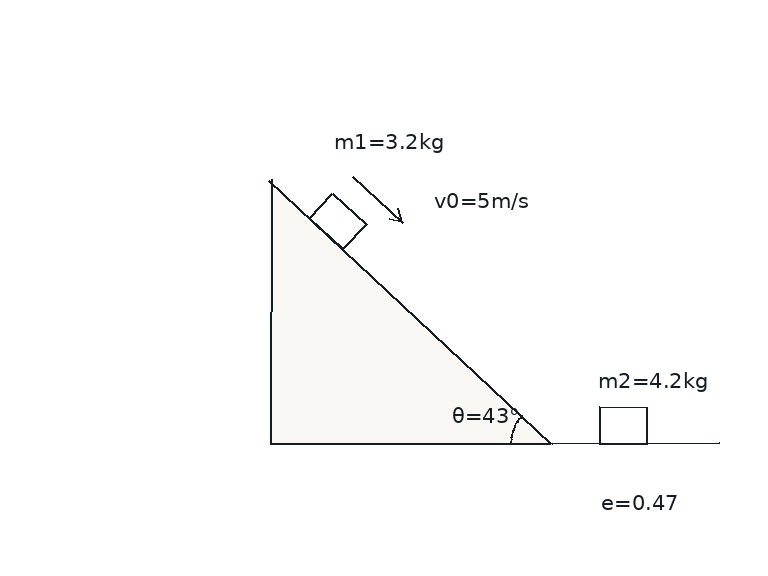block: (307, 190, 368, 251), (597, 405, 649, 445)
ramp: (267, 178, 553, 445)
